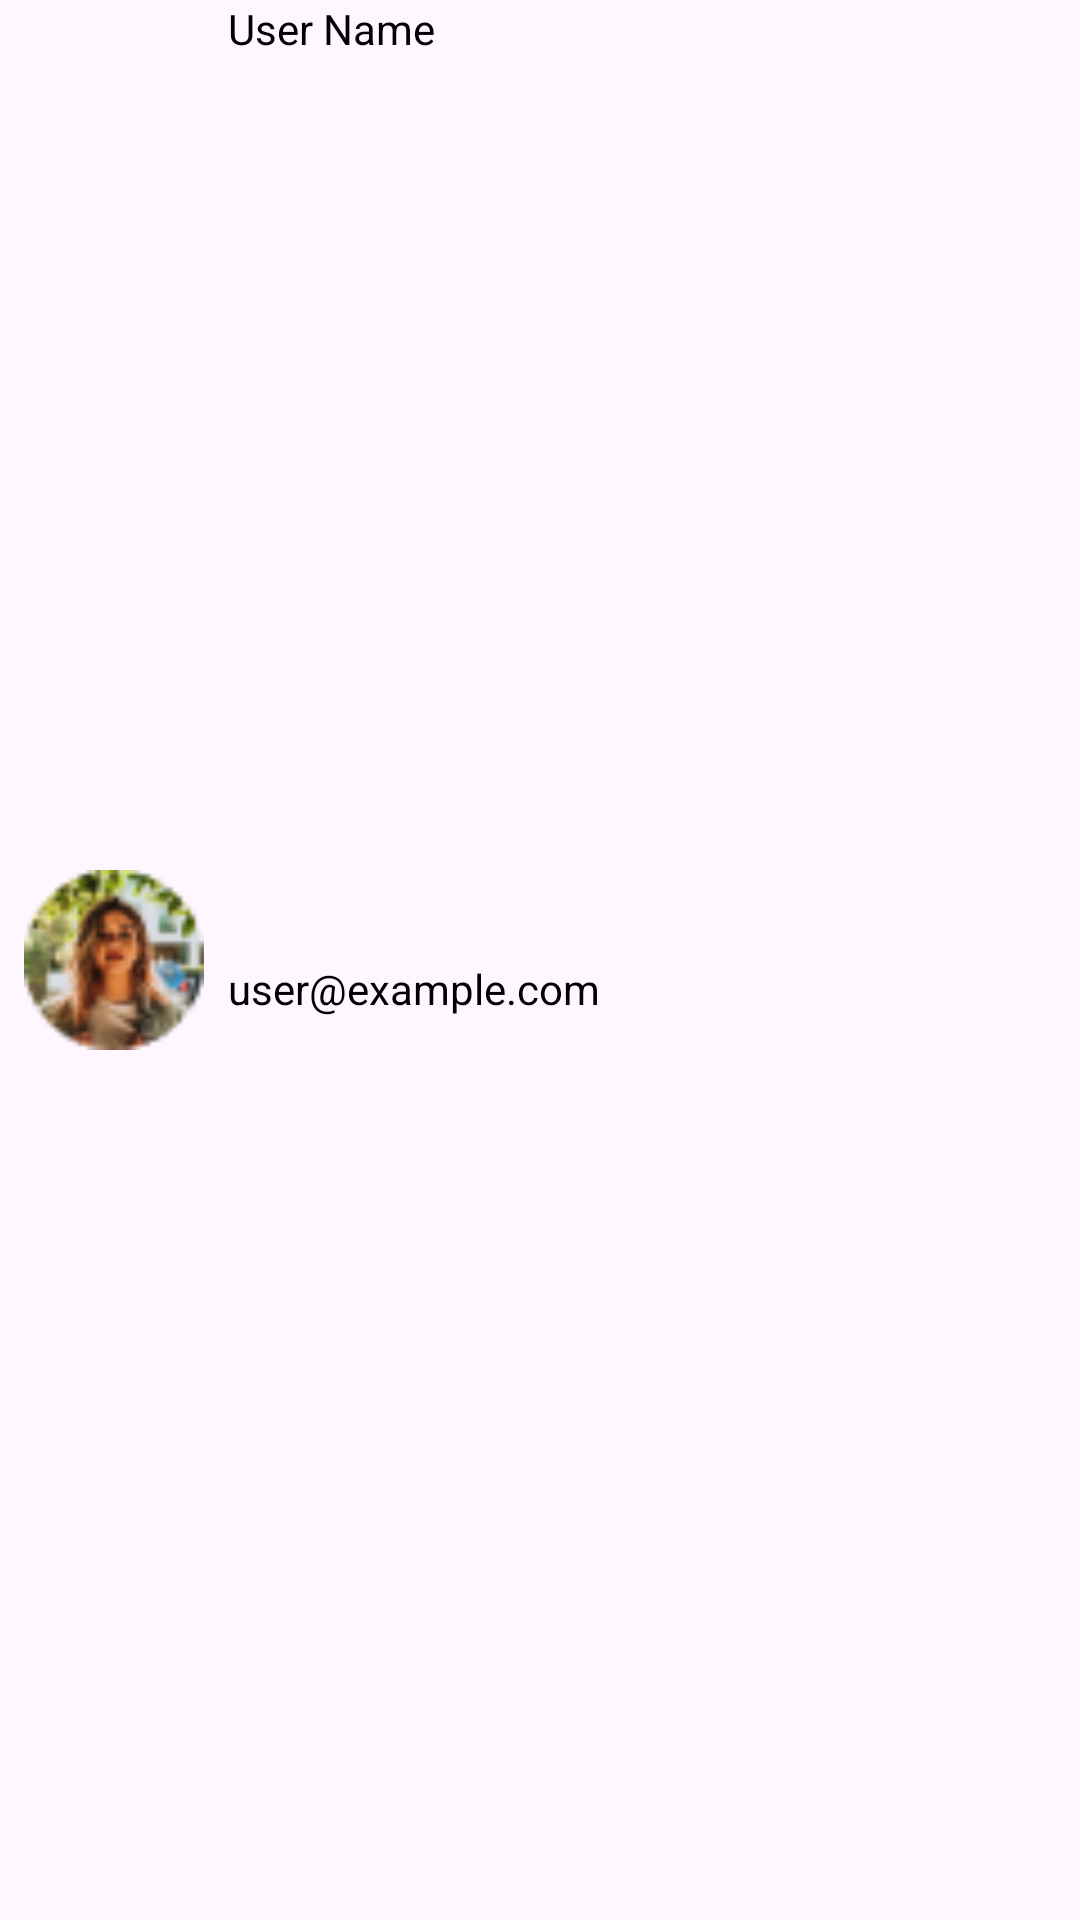

Icons on this 1080w x 1920h Android screen, each with its box as [left=x1, top=y1, right=x2, bottom=y2]:
person: [left=24, top=870, right=204, bottom=1050]
